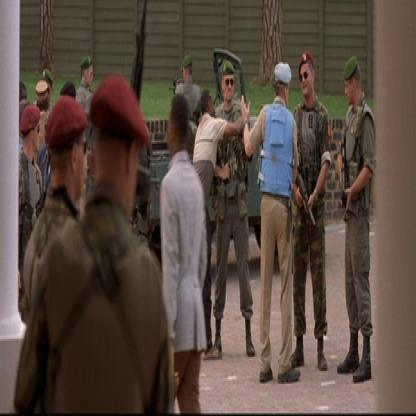Guns: (128, 0, 151, 231), (295, 168, 317, 234), (338, 128, 348, 211), (167, 76, 179, 94)
